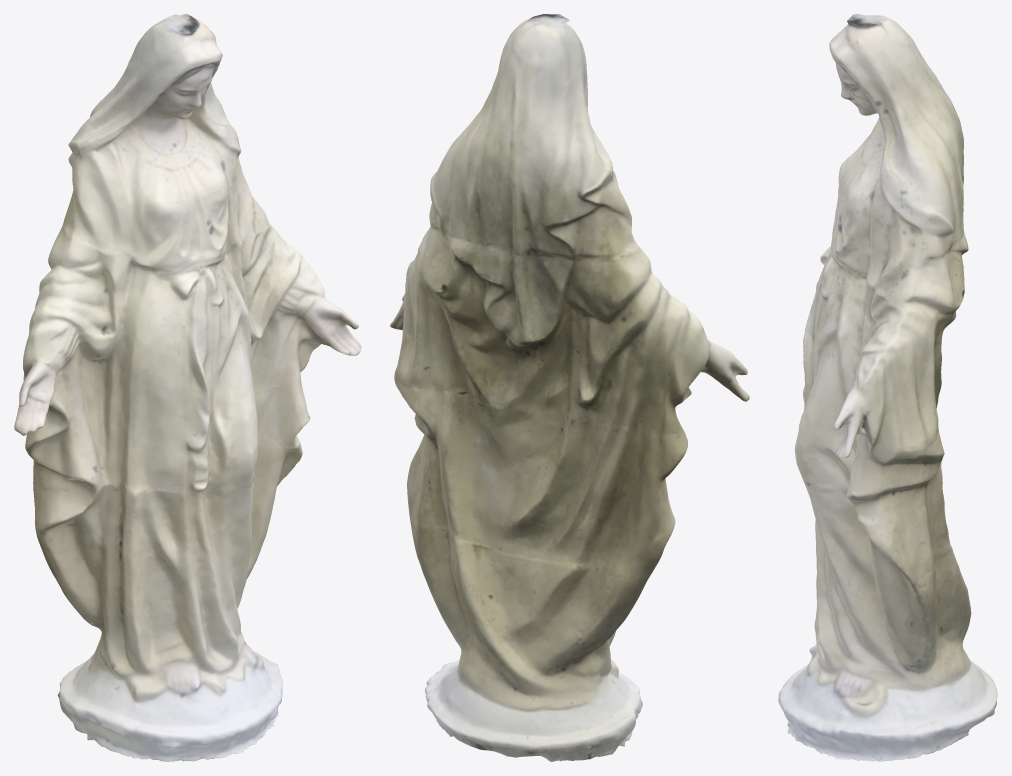
The model's file is Mary_Statue_Grace.glb.
3 renders of one model, left to right at view 1: azimuth 30°, elevation 25°; view 2: azimuth 150°, elevation 25°; view 3: azimuth 270°, elevation 25°, orthographic.
Visible parts, largest first — view 1: Object_2, Object_3; view 2: Object_2, Object_3; view 3: Object_3, Object_2.
Boxes of the visible parts, x1,y1,x2,y2 form: Object_2: [14, 74, 302, 745]; Object_3: [37, 14, 361, 761]; Object_2: [407, 148, 749, 757]; Object_3: [390, 14, 663, 761]; Object_3: [778, 14, 997, 761]; Object_2: [779, 88, 997, 735].
Size of the model in its own units: 0.378 by 0.725 by 0.2041.
1 material, 1 textured.
